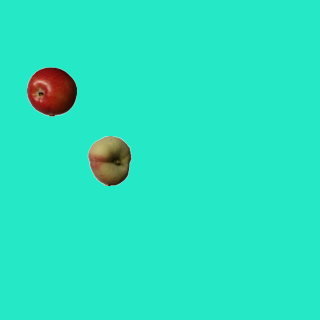Apple Braeburn: (26, 66, 76, 116)
Peach Flat: (84, 135, 134, 185)
